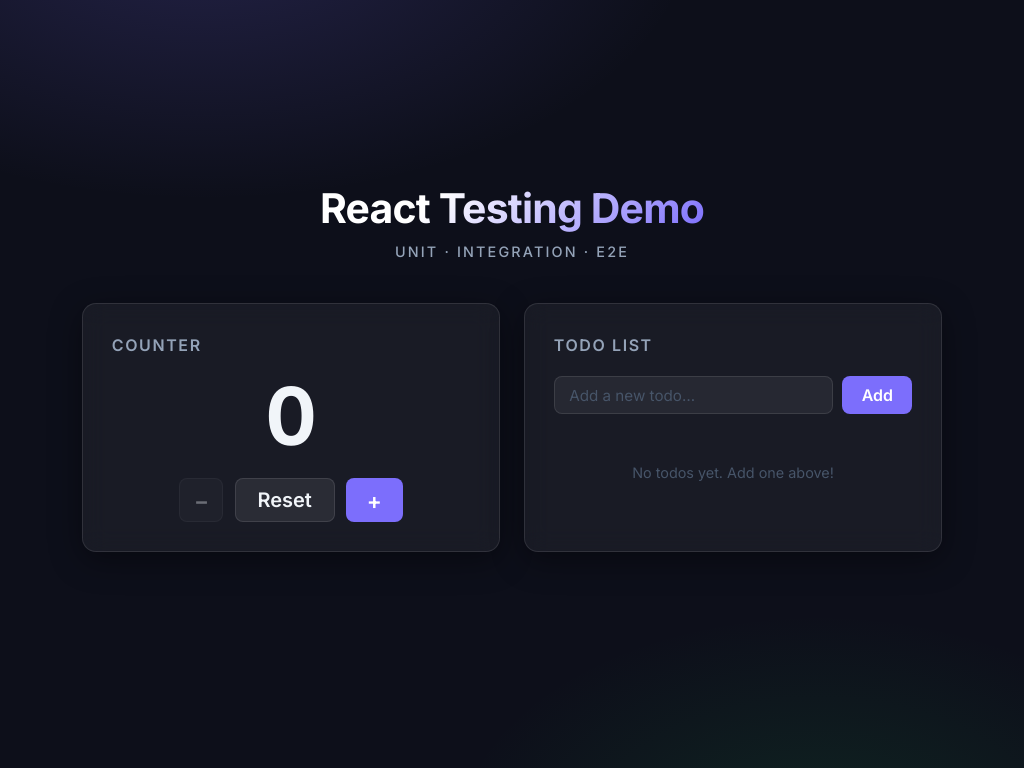
App — Integration Tests › can interact with both components in the same test without interference
In the field labelled "Add a new todo…": (693, 395) [554, 376, 833, 414], type "Task A"
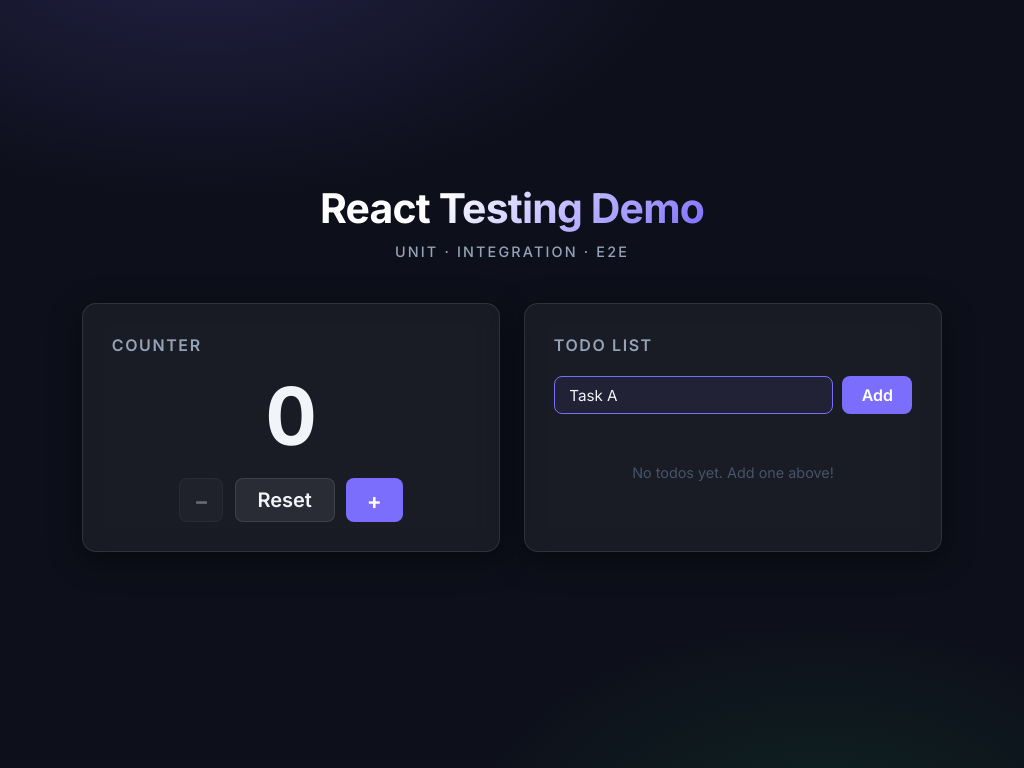
Click the button "Add": (877, 395) [842, 376, 912, 414]
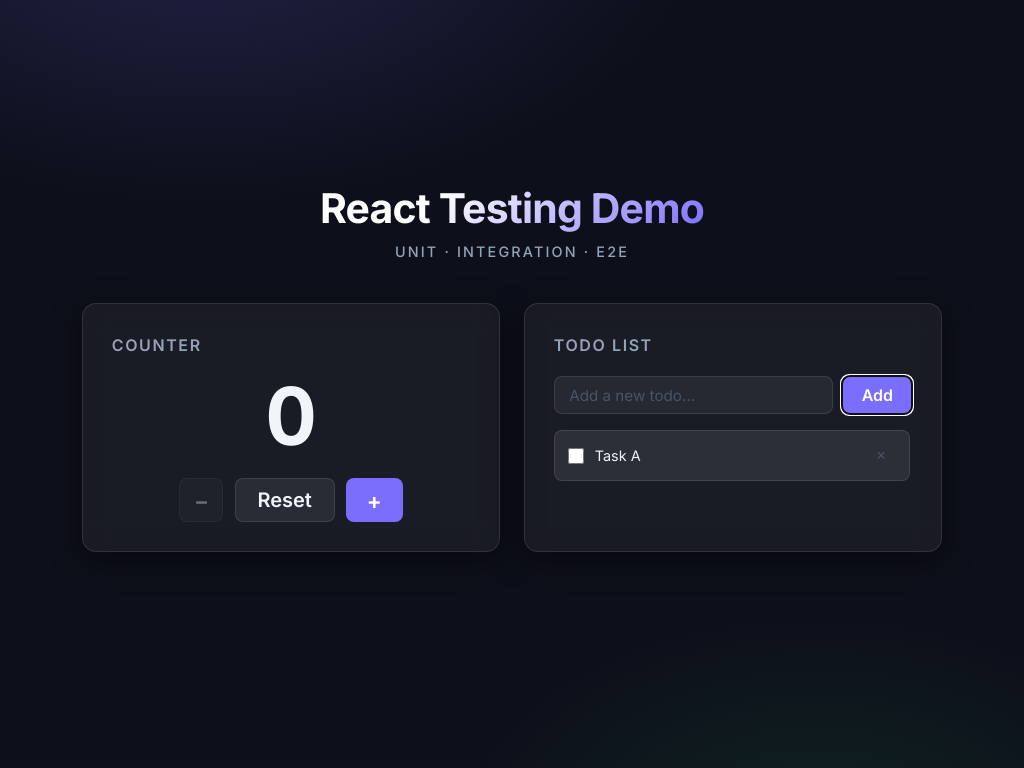
In the field labelled "Add a new todo…": (693, 395) [554, 376, 833, 414], type "Task B"
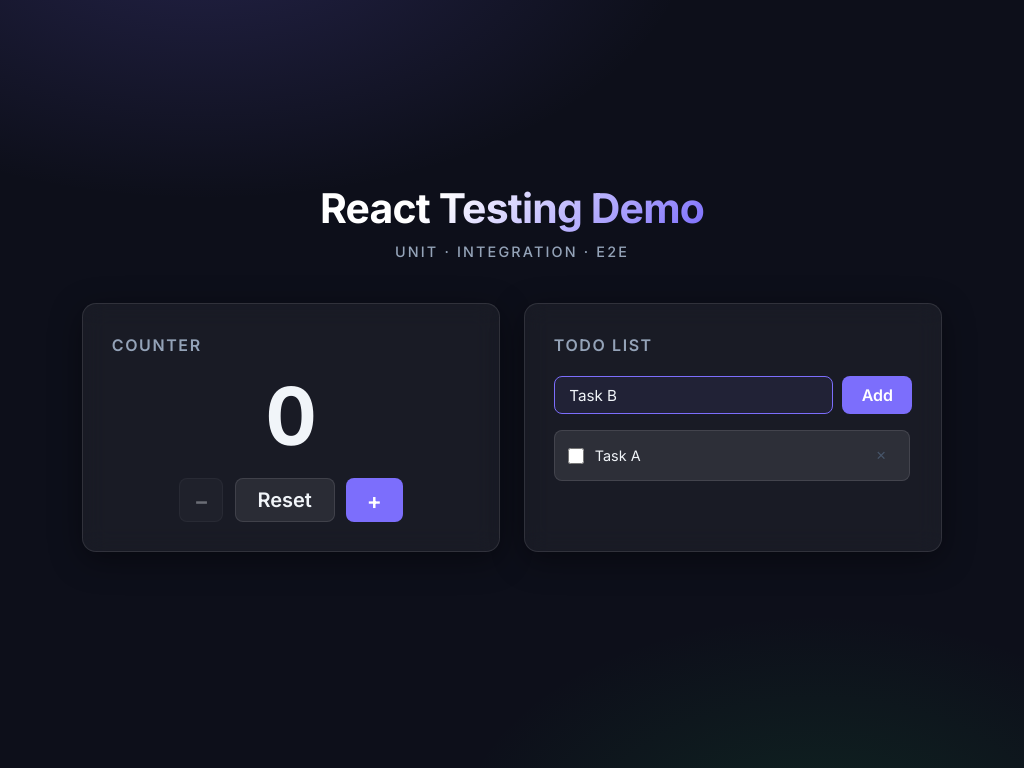
Click the button "Add": (877, 395) [842, 376, 912, 414]
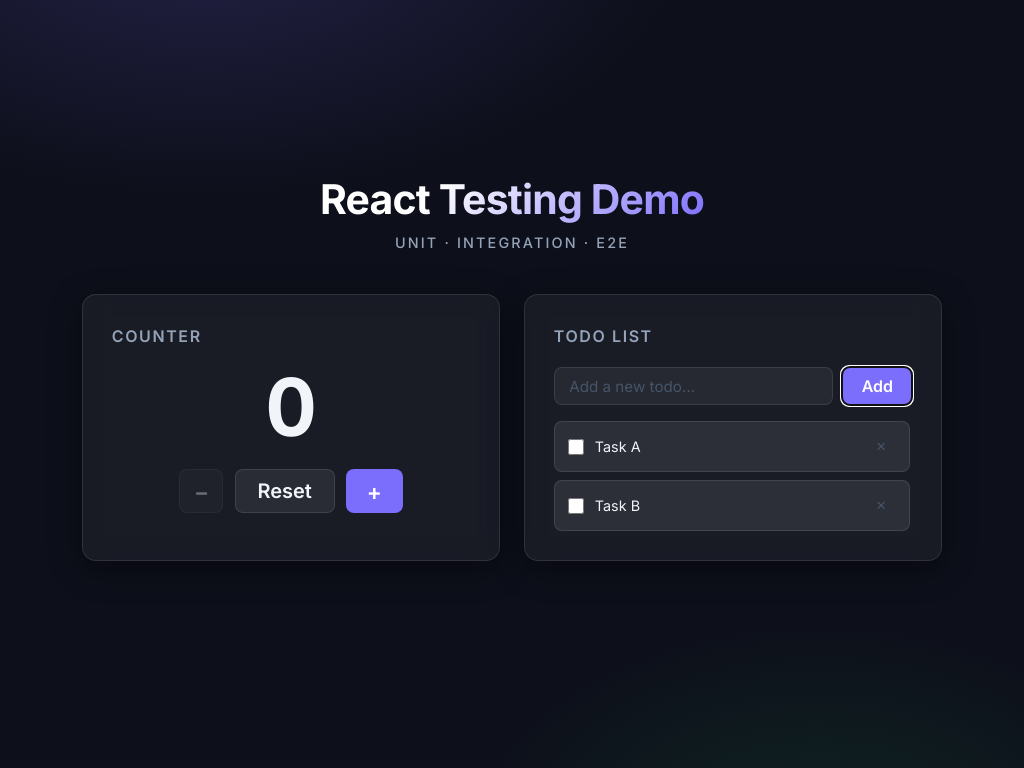
Note: Increment counter
Click the button "+": (374, 491) [346, 469, 402, 513]
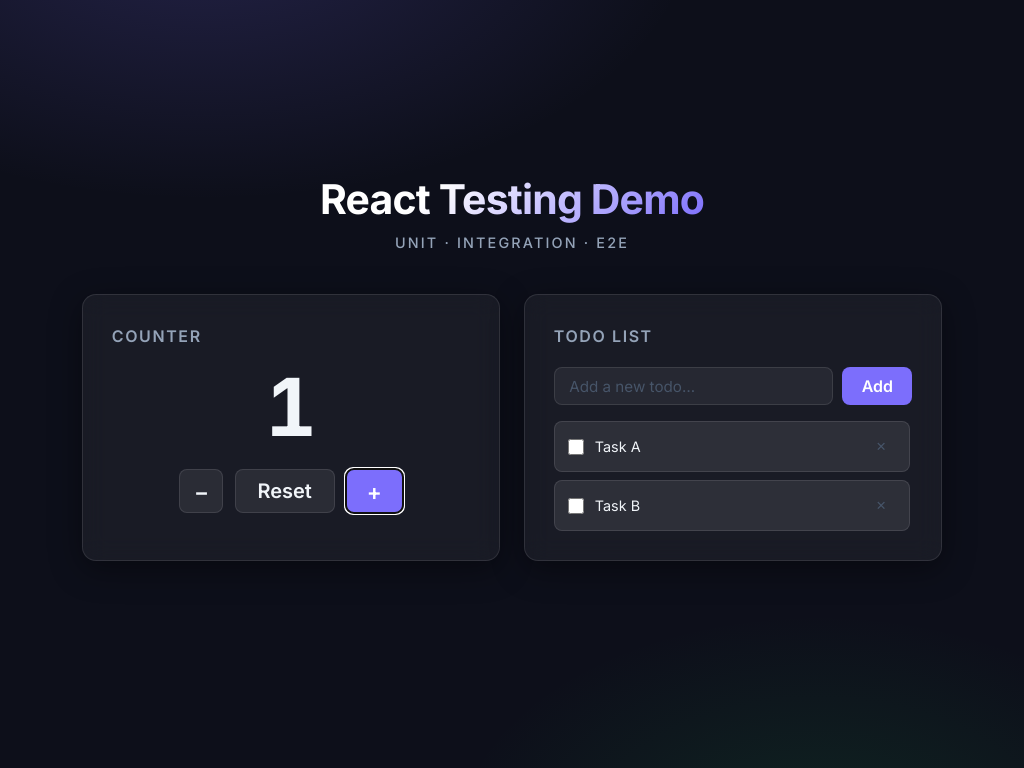
Expected: the number of list items is 2, [554, 422, 910, 472]; [554, 480, 910, 531]
Expected: the text with test id "count-display" reads "1", [265, 358, 317, 455]
